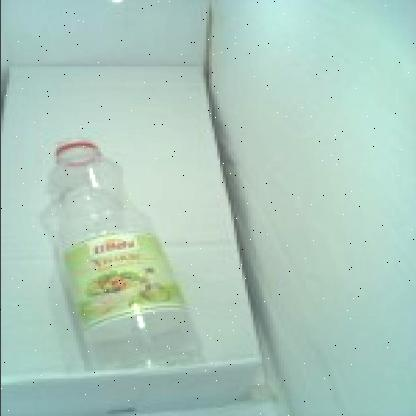Plastic Bottle: (46, 140, 202, 370)
